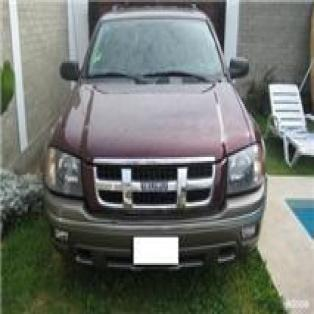Auto: (45, 13, 268, 286)
